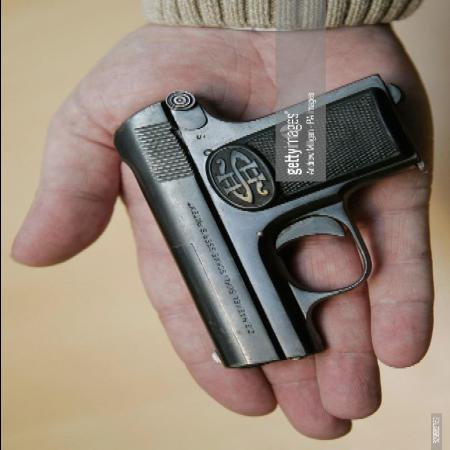Pistol: (110, 73, 417, 371)
